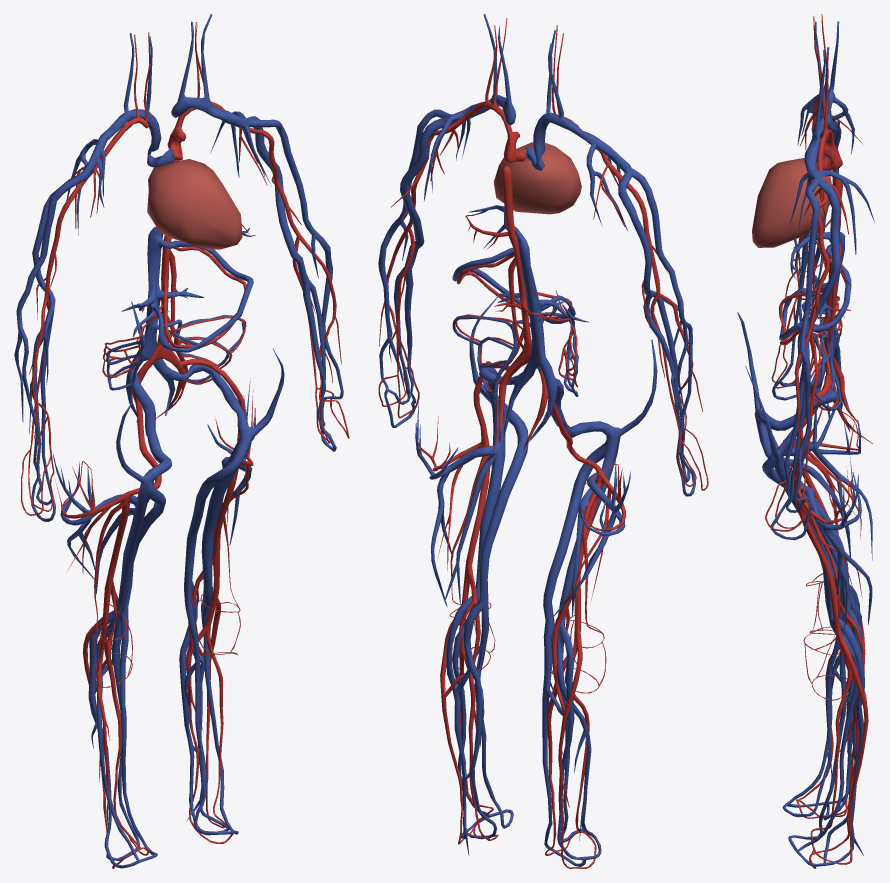
Rendered from pediatric_infant_male.cardiovascular.LOD2.glb.
3 renders of one model, left to right at view 1: azimuth 30°, elevation 25°; view 2: azimuth 150°, elevation 25°; view 3: azimuth 270°, elevation 25°, orthographic. The views are drawn at different scales.
Visible parts, largest first — view 1: PEDIATRIC.INFANT.MALE.CARDIOVASCULAR.BLOOD_IN_LARGE_VEINS, PEDIATRIC.INFANT.MALE.CARDIOVASCULAR.BLOOD_IN_LARGE_ARTERIES, PEDIATRIC.INFANT.MALE.CARDIOVASCULAR.HEART_WALL; view 2: PEDIATRIC.INFANT.MALE.CARDIOVASCULAR.BLOOD_IN_LARGE_VEINS, PEDIATRIC.INFANT.MALE.CARDIOVASCULAR.BLOOD_IN_LARGE_ARTERIES, PEDIATRIC.INFANT.MALE.CARDIOVASCULAR.HEART_WALL; view 3: PEDIATRIC.INFANT.MALE.CARDIOVASCULAR.BLOOD_IN_LARGE_VEINS, PEDIATRIC.INFANT.MALE.CARDIOVASCULAR.BLOOD_IN_LARGE_ARTERIES, PEDIATRIC.INFANT.MALE.CARDIOVASCULAR.HEART_WALL.
Part boxes in pixels (x1=…): PEDIATRIC.INFANT.MALE.CARDIOVASCULAR.BLOOD_IN_LARGE_VEINS: x1=14, y1=14, x2=343, y2=868; PEDIATRIC.INFANT.MALE.CARDIOVASCULAR.BLOOD_IN_LARGE_ARTERIES: x1=21, y1=22, x2=349, y2=868; PEDIATRIC.INFANT.MALE.CARDIOVASCULAR.HEART_WALL: x1=147, y1=159, x2=242, y2=249; PEDIATRIC.INFANT.MALE.CARDIOVASCULAR.BLOOD_IN_LARGE_VEINS: x1=378, y1=14, x2=695, y2=866; PEDIATRIC.INFANT.MALE.CARDIOVASCULAR.BLOOD_IN_LARGE_ARTERIES: x1=378, y1=18, x2=708, y2=868; PEDIATRIC.INFANT.MALE.CARDIOVASCULAR.HEART_WALL: x1=493, y1=142, x2=581, y2=214; PEDIATRIC.INFANT.MALE.CARDIOVASCULAR.BLOOD_IN_LARGE_VEINS: x1=737, y1=21, x2=874, y2=866; PEDIATRIC.INFANT.MALE.CARDIOVASCULAR.BLOOD_IN_LARGE_ARTERIES: x1=765, y1=14, x2=872, y2=868; PEDIATRIC.INFANT.MALE.CARDIOVASCULAR.HEART_WALL: x1=752, y1=158, x2=831, y2=247.
Size of the model in its own units: 0.256 by 0.6319 by 0.0969.
